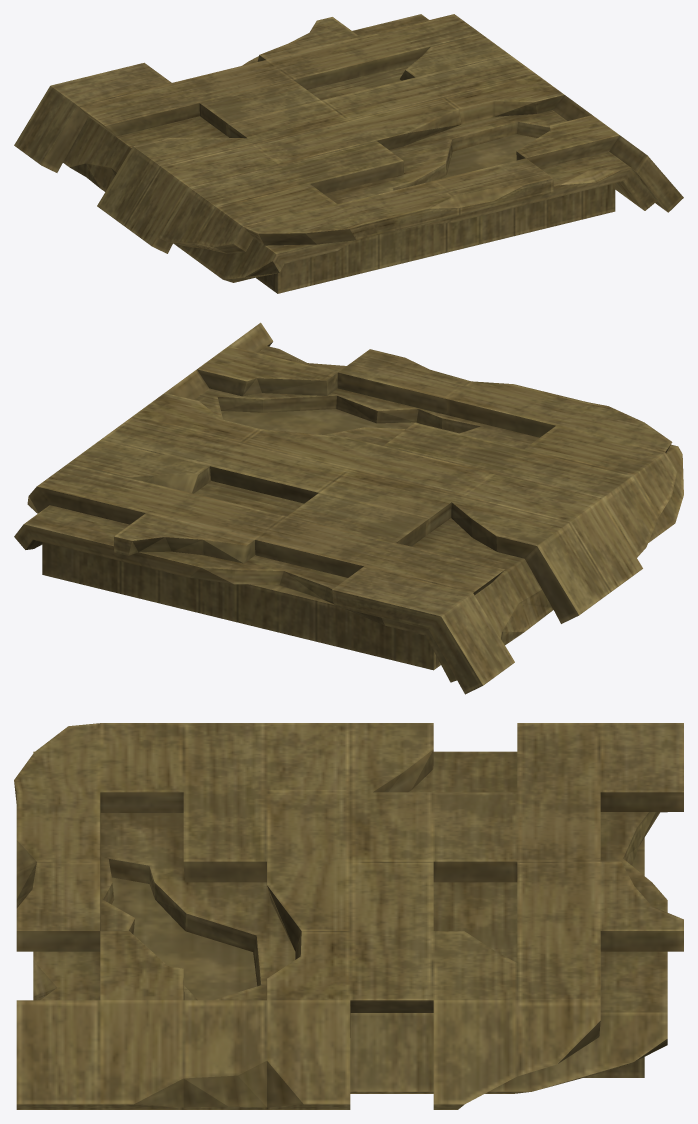
Rendered from sb_obj_outdoor029_house03_roof_b_ruins.fbx.
3 views of the same model, one above another, from view 1: azimuth 30°, elevation 25°; view 2: azimuth 150°, elevation 25°; view 3: azimuth 270°, elevation 25° (orthographic). The views are drawn at different scales.
Visible parts, largest first — view 1: sb_obj_outdoor029_house03_roof_b_ruins; view 2: sb_obj_outdoor029_house03_roof_b_ruins; view 3: sb_obj_outdoor029_house03_roof_b_ruins.
Part boxes in pixels (x1,y1,x2,y2): sb_obj_outdoor029_house03_roof_b_ruins: (14, 14, 683, 293); sb_obj_outdoor029_house03_roof_b_ruins: (14, 322, 683, 694); sb_obj_outdoor029_house03_roof_b_ruins: (14, 723, 683, 1109).
Bounding box in the file's own units: 3.99 × 0.5301 × 3.41.
